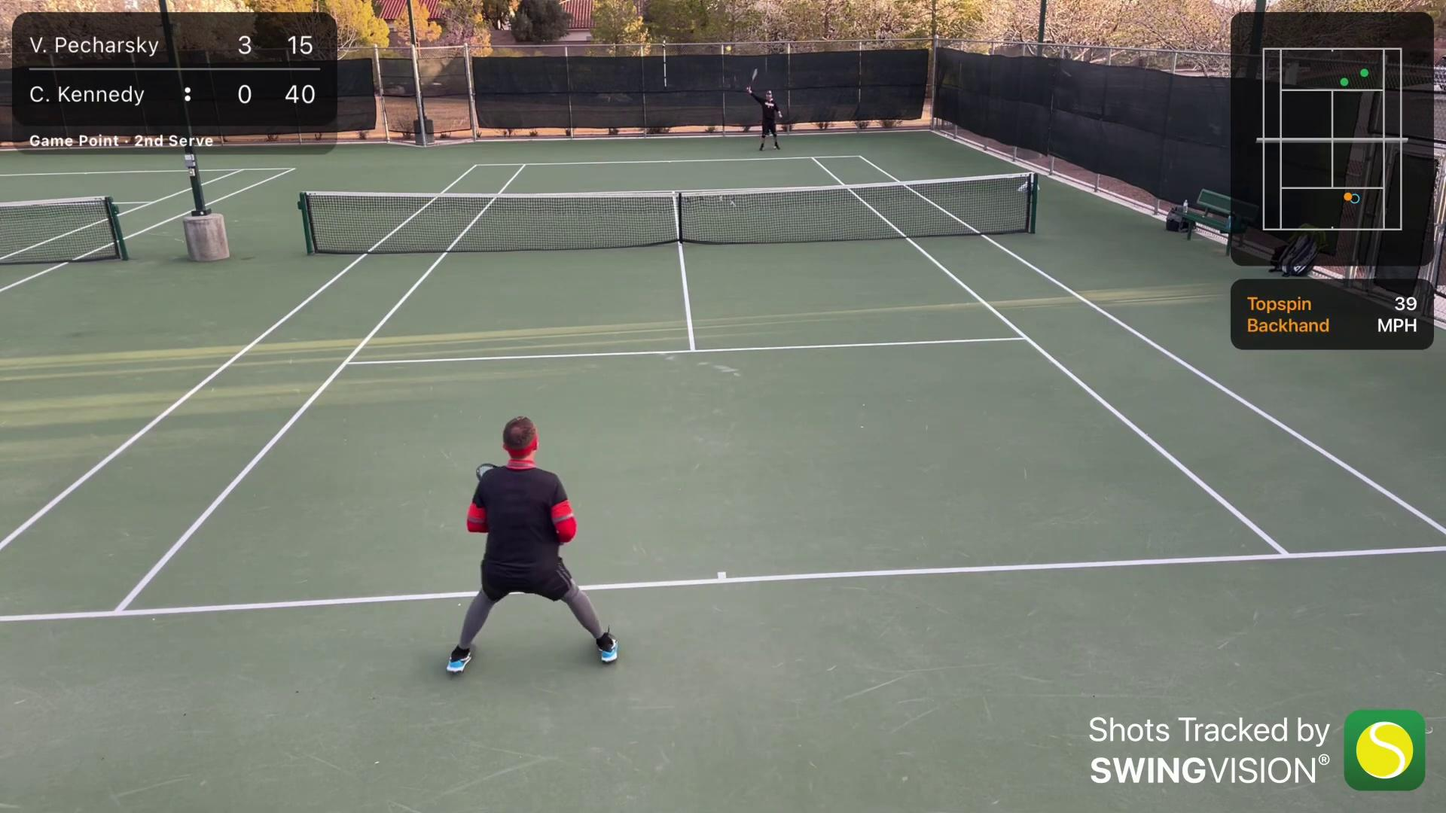ball: (725, 46, 732, 52)
